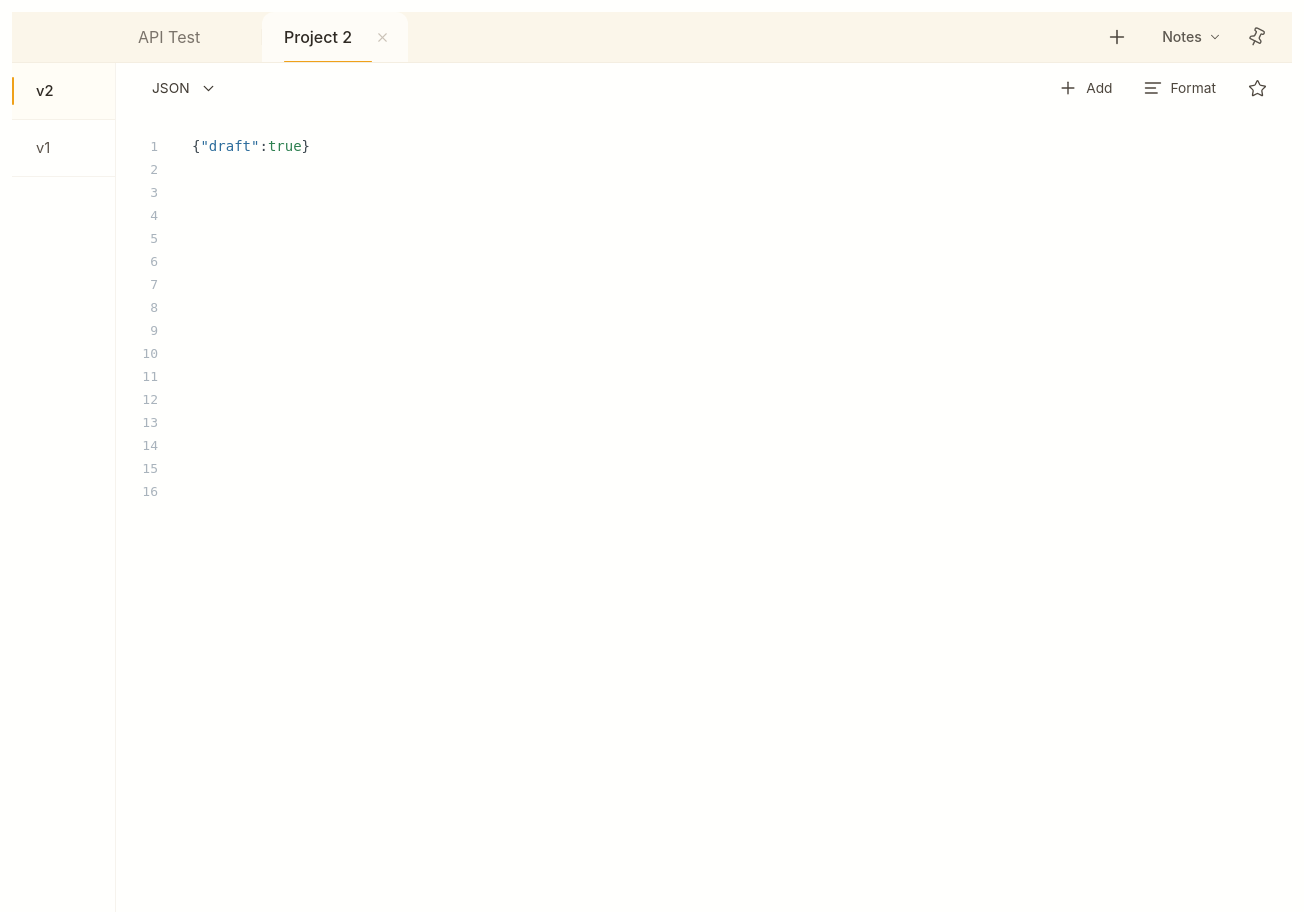
Test case: App project and version lifecycle › changes the current version type from the custom type menu
Click the button with aria-label "Content type: JSON" at point(185, 88), box [142,69,228,107]
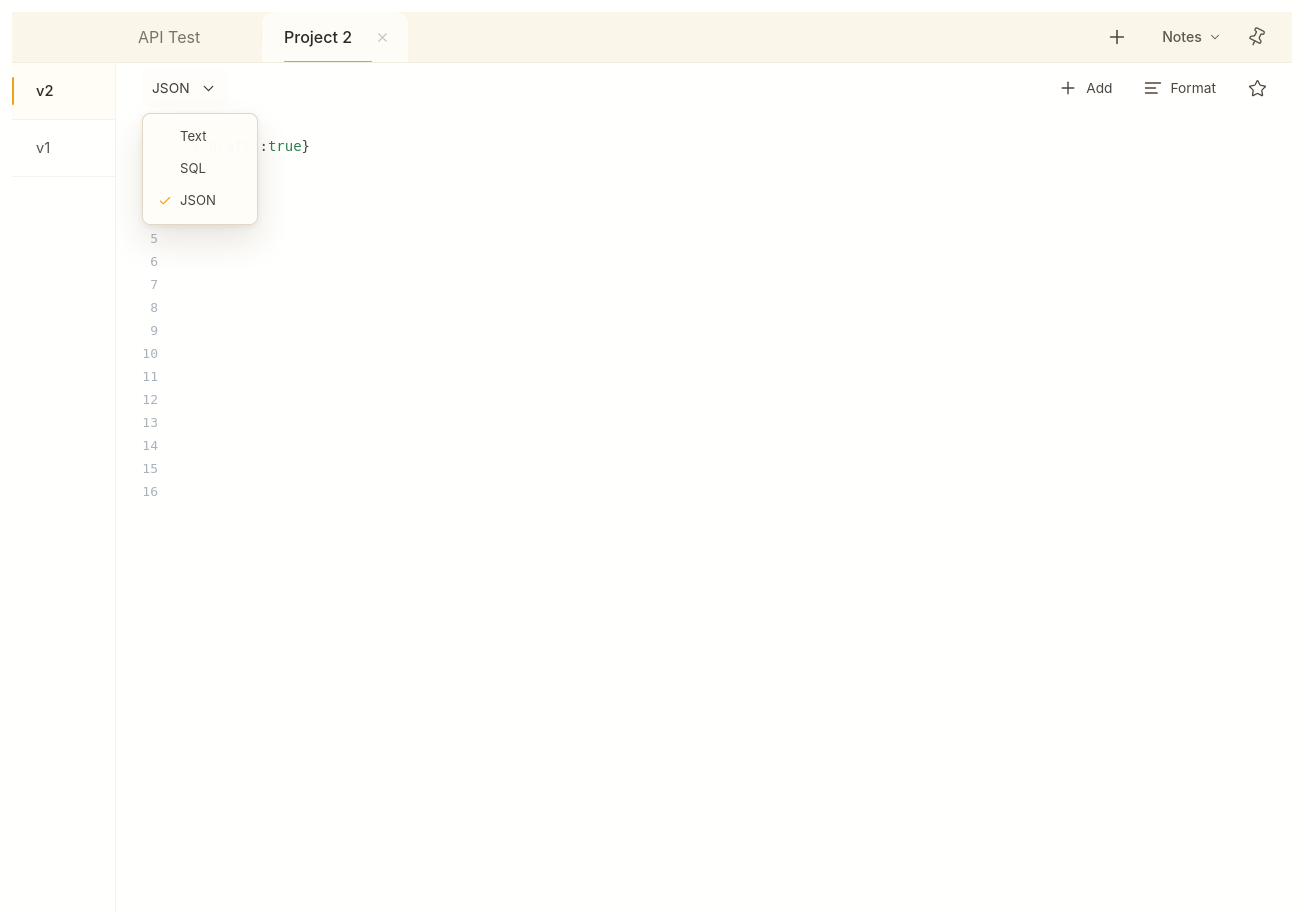
Click the menu item "SQL" at point(200, 169), box [150,153,250,185]
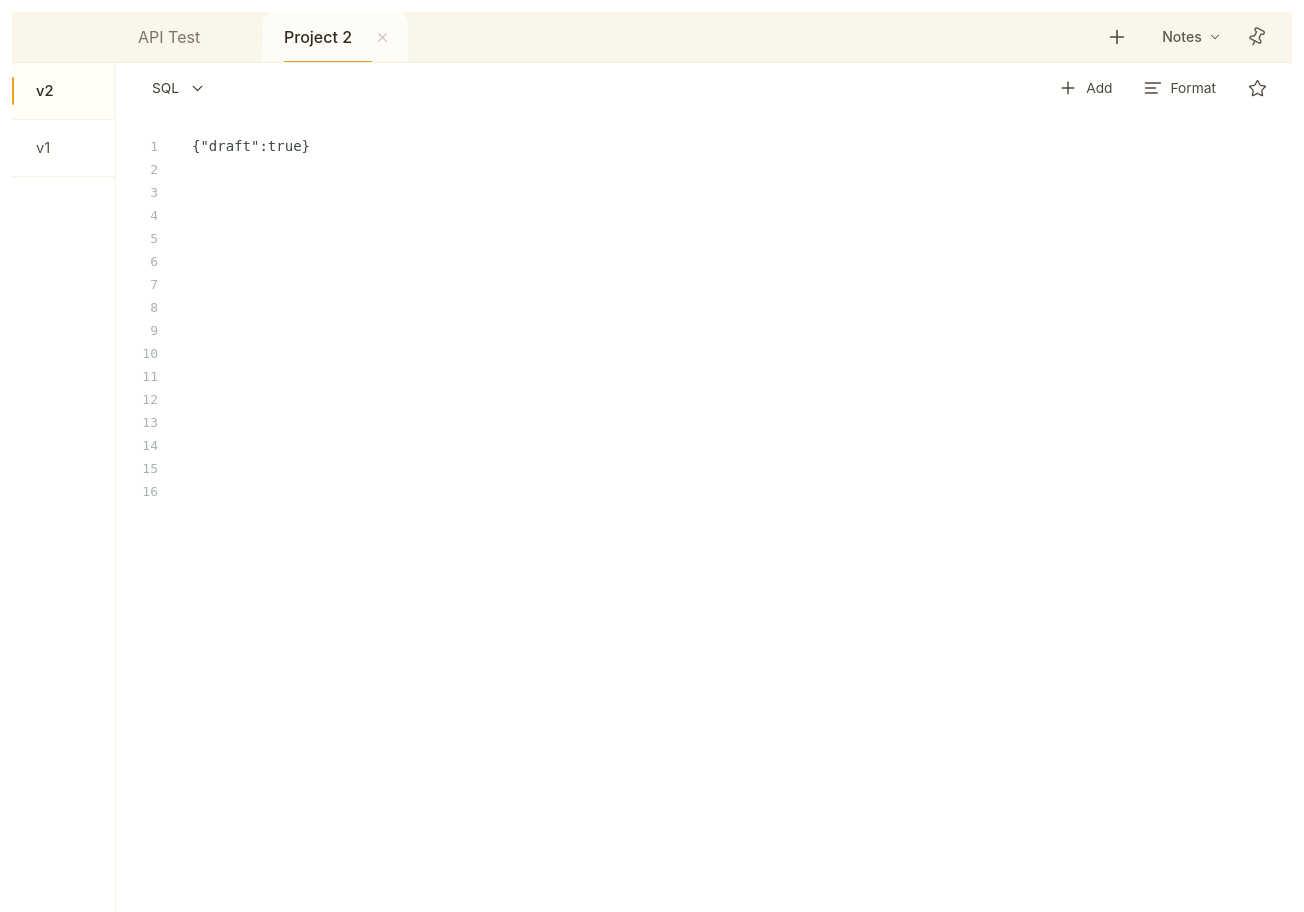
Expected: the button with aria-label "Content type: SQL" is shown, [142,69,228,107]
